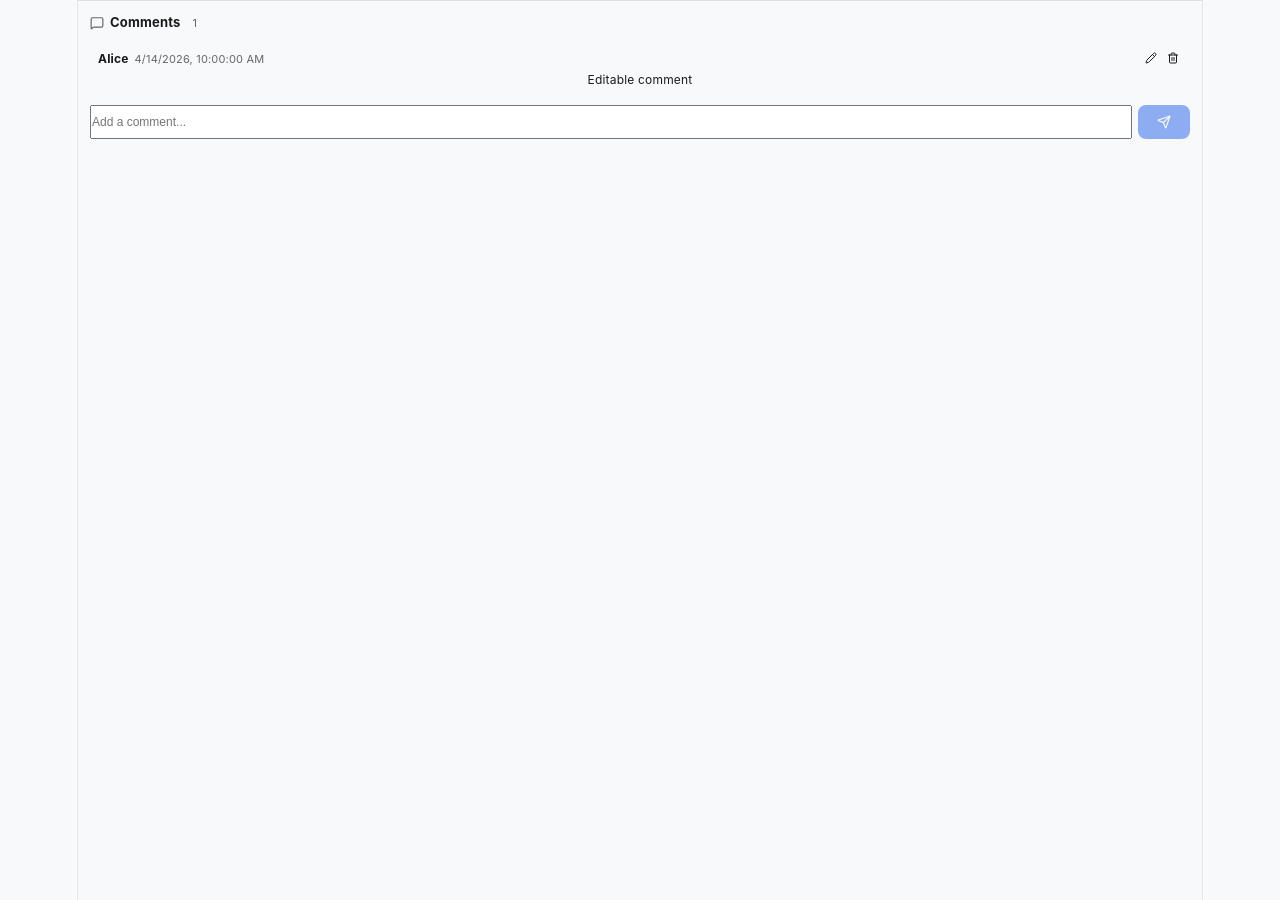
Test: EmailComments › enters edit mode when edit button is clicked
What coordinates should you click on to do the following:
click the button titled "Edit"
I would click on:
 (1151, 58)
Its box is [1142,48,1160,66].
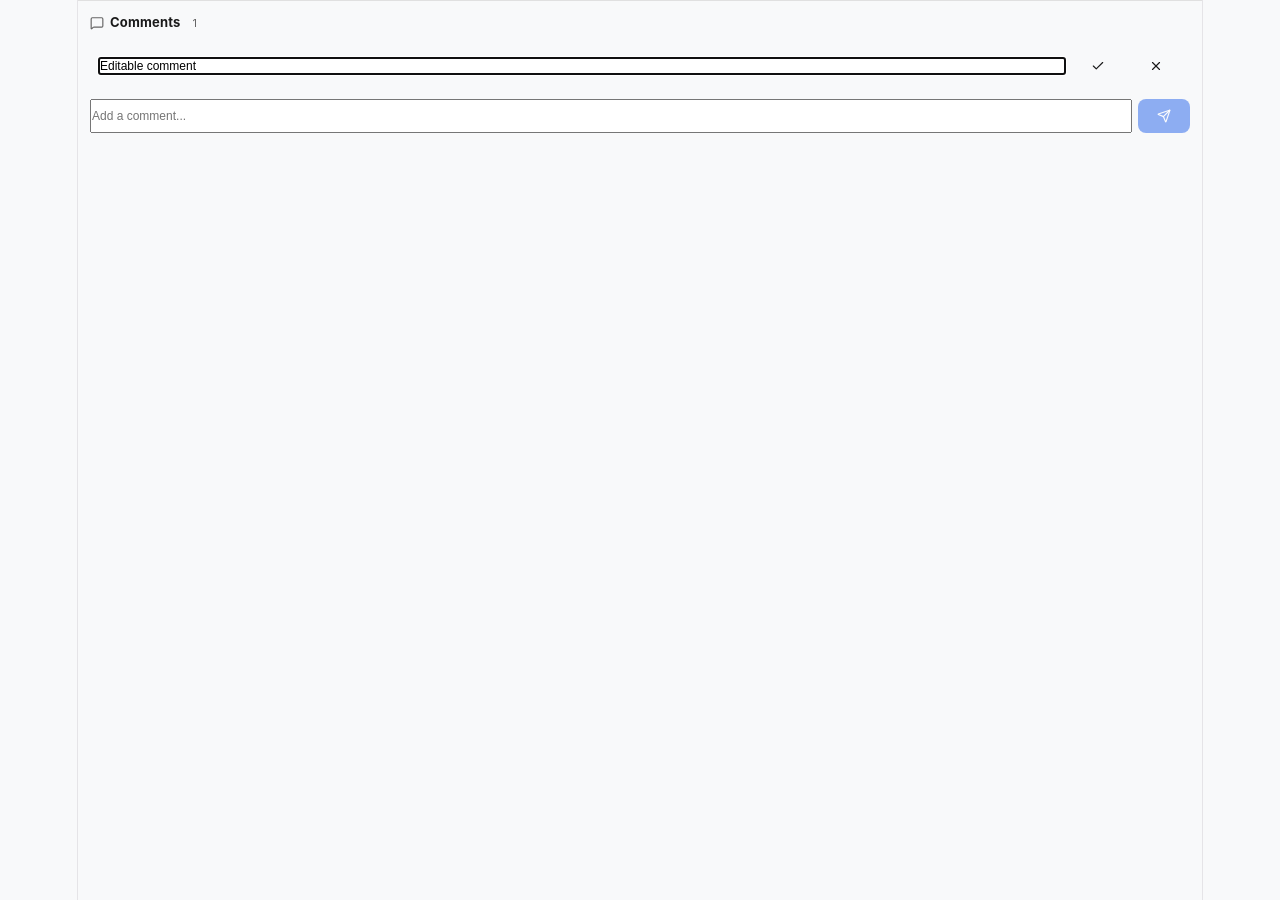
Check: the button titled "Save" is shown, box [1072,48,1124,82]
Check: the button titled "Cancel" is shown, box [1130,48,1182,82]
